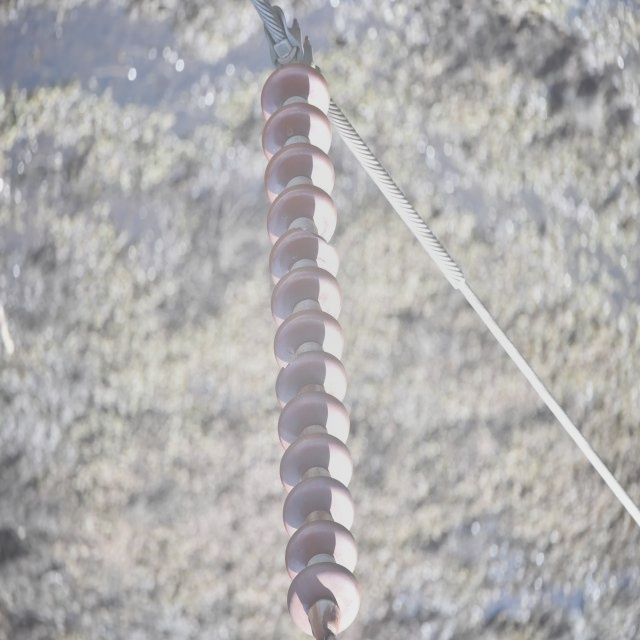broken: (290, 223, 338, 256), (278, 347, 306, 374)
insulator: (260, 62, 361, 630)
